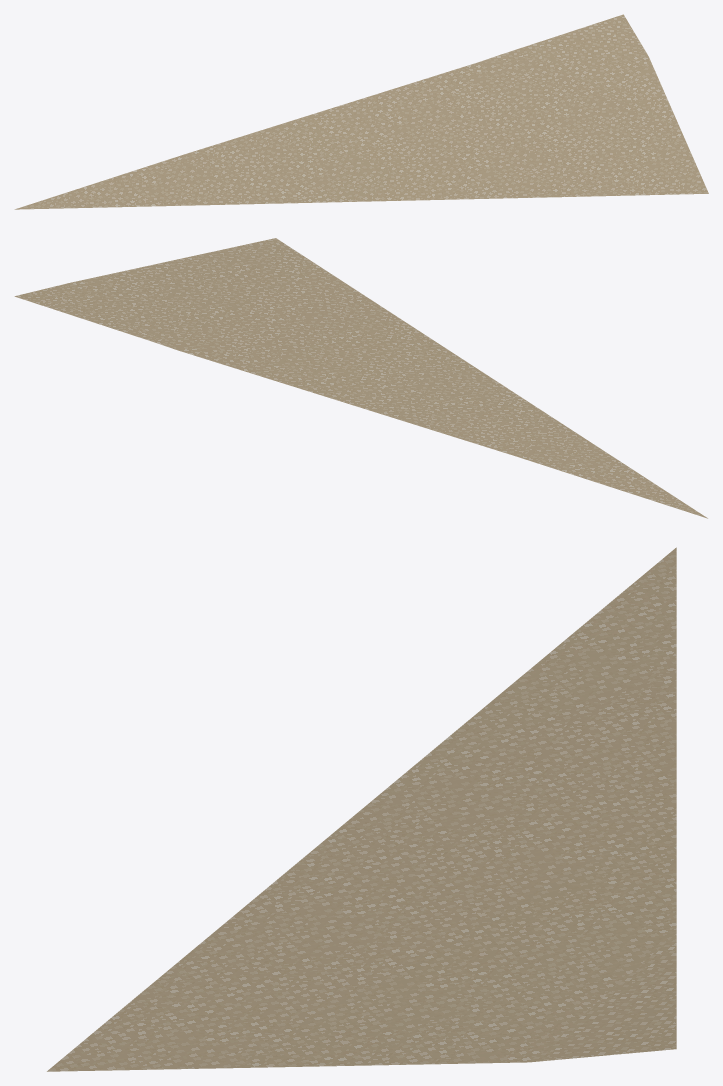
The model's file is kd_stage_1363c5_6_1_bounded.glb.
3 renders of one model, top to bottom at view 1: azimuth 30°, elevation 25°; view 2: azimuth 150°, elevation 25°; view 3: azimuth 270°, elevation 25°, orthographic. The views are drawn at different scales.
Parts seen in each view (by area): view 1: kd_stage_1363c5_6_1_bounded; view 2: kd_stage_1363c5_6_1_bounded; view 3: kd_stage_1363c5_6_1_bounded.
Boxes of the visible parts, x1,y1,x2,y2 form: kd_stage_1363c5_6_1_bounded: (14,14,708,209); kd_stage_1363c5_6_1_bounded: (14,238,707,518); kd_stage_1363c5_6_1_bounded: (47,547,676,1071).
Bounding box in the file's own units: 13.34 × 0.9722 × 5.97.
Materials: 1 (1 with a texture image).
